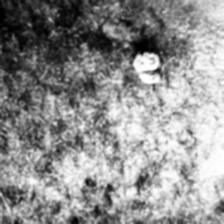Toxin: (130, 53, 160, 85)
